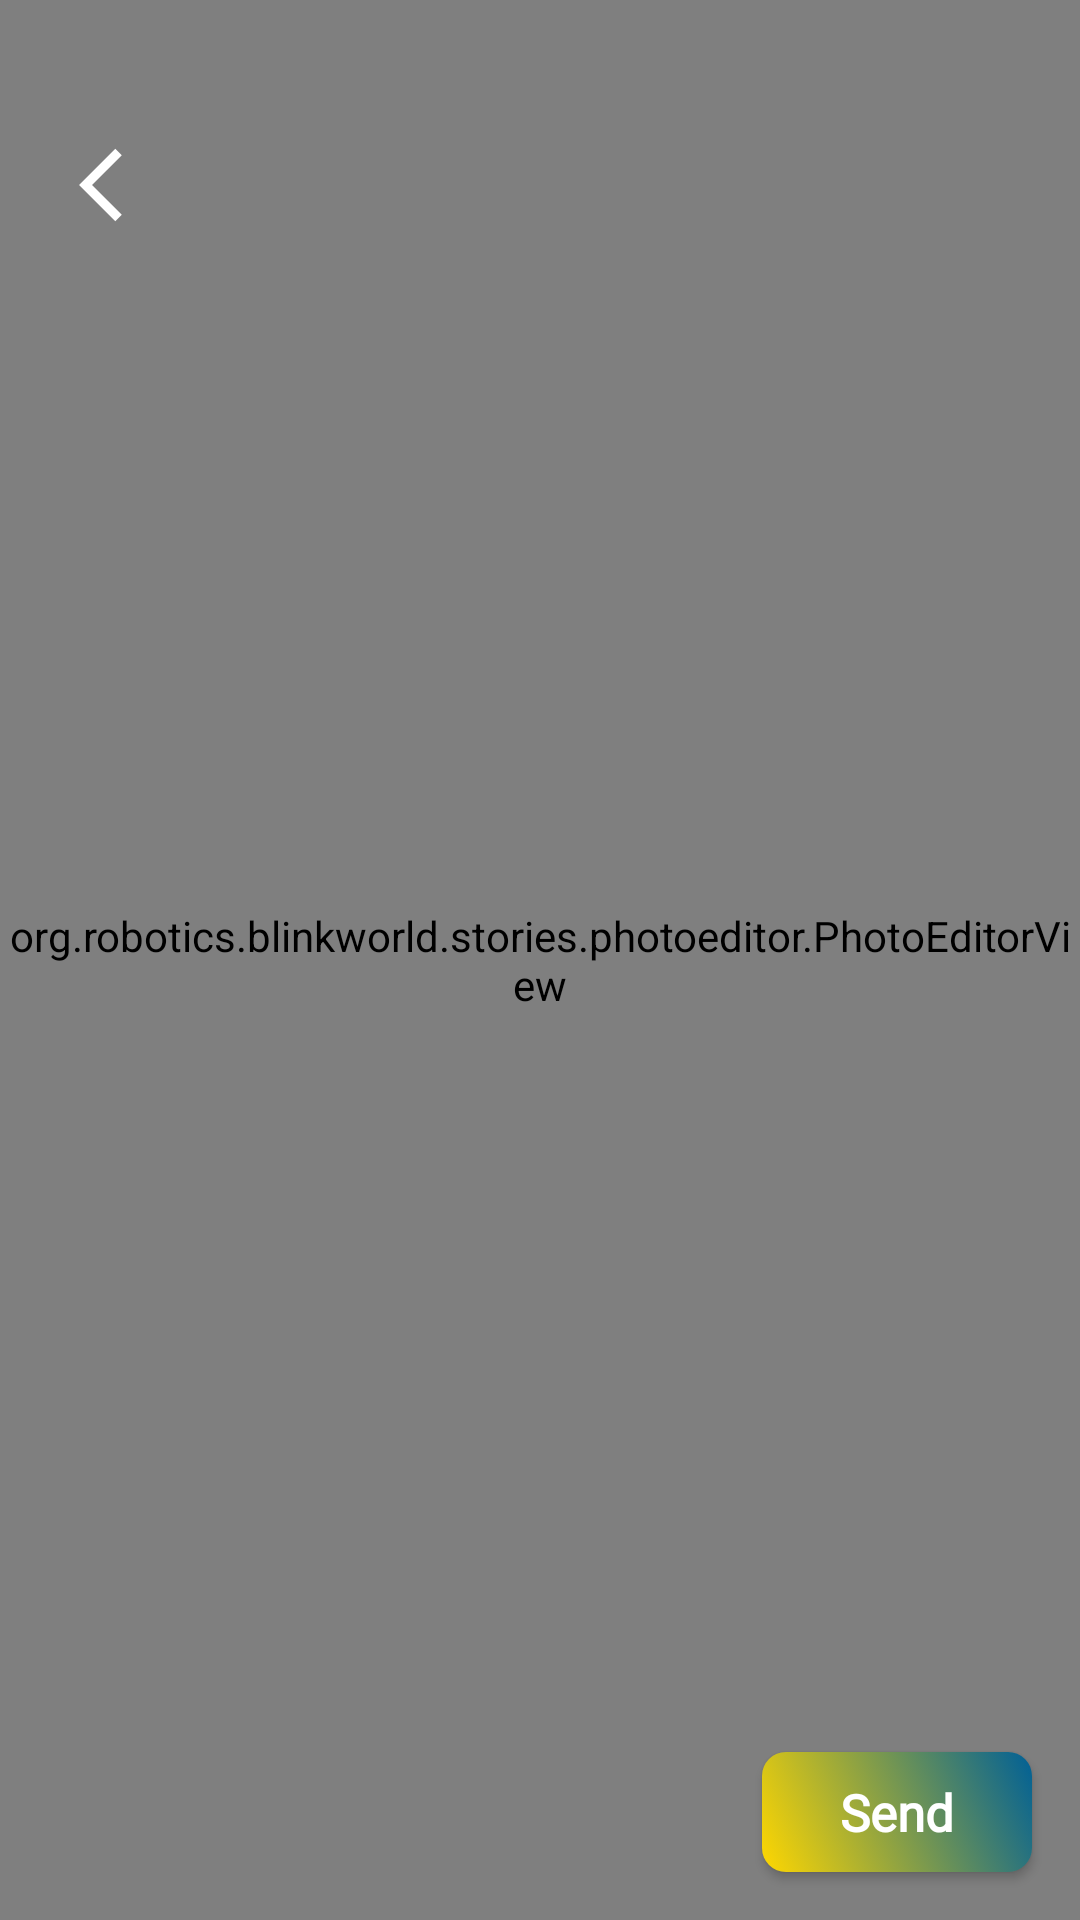

Screen size 1080 x 1920. Icon name, then its box in pixels as box(x1, y1, x2, y2):
arrow back: box(79, 149, 122, 221)
